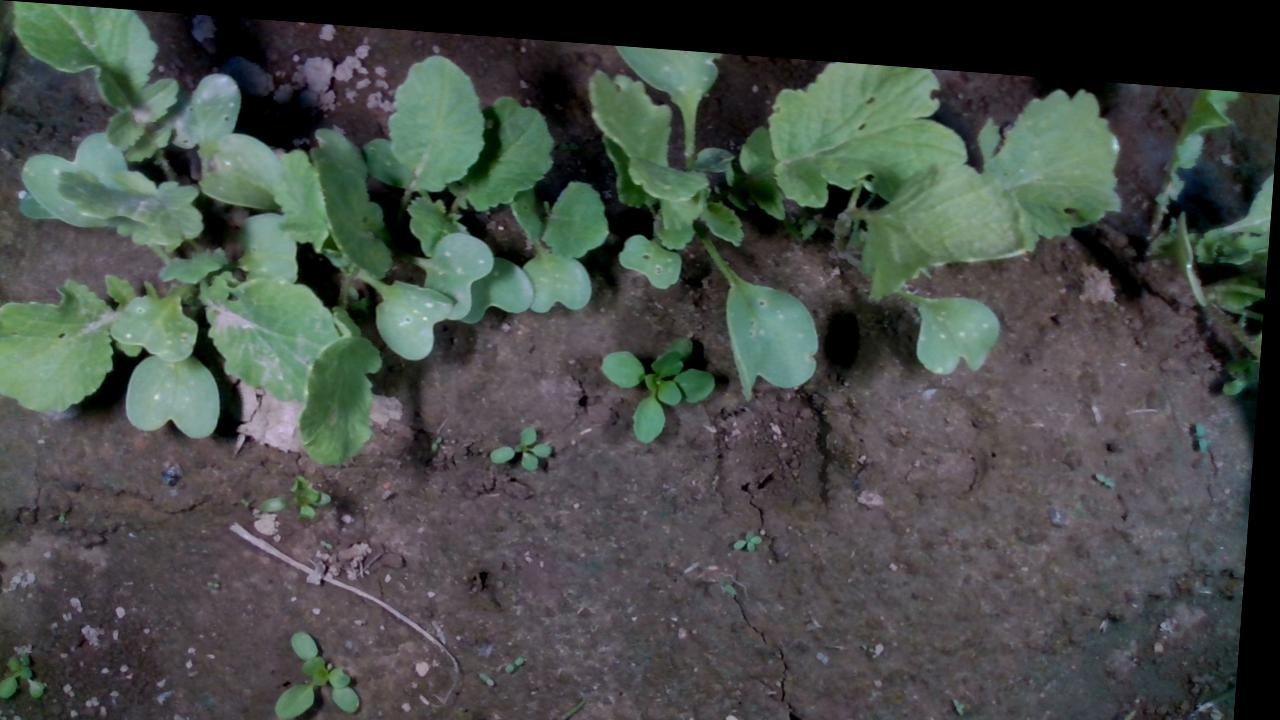weed: (491, 413, 561, 465), (5, 648, 58, 701), (737, 513, 771, 538), (1197, 399, 1214, 436), (1098, 450, 1124, 471), (512, 645, 534, 665), (485, 662, 504, 679), (436, 426, 448, 443)
